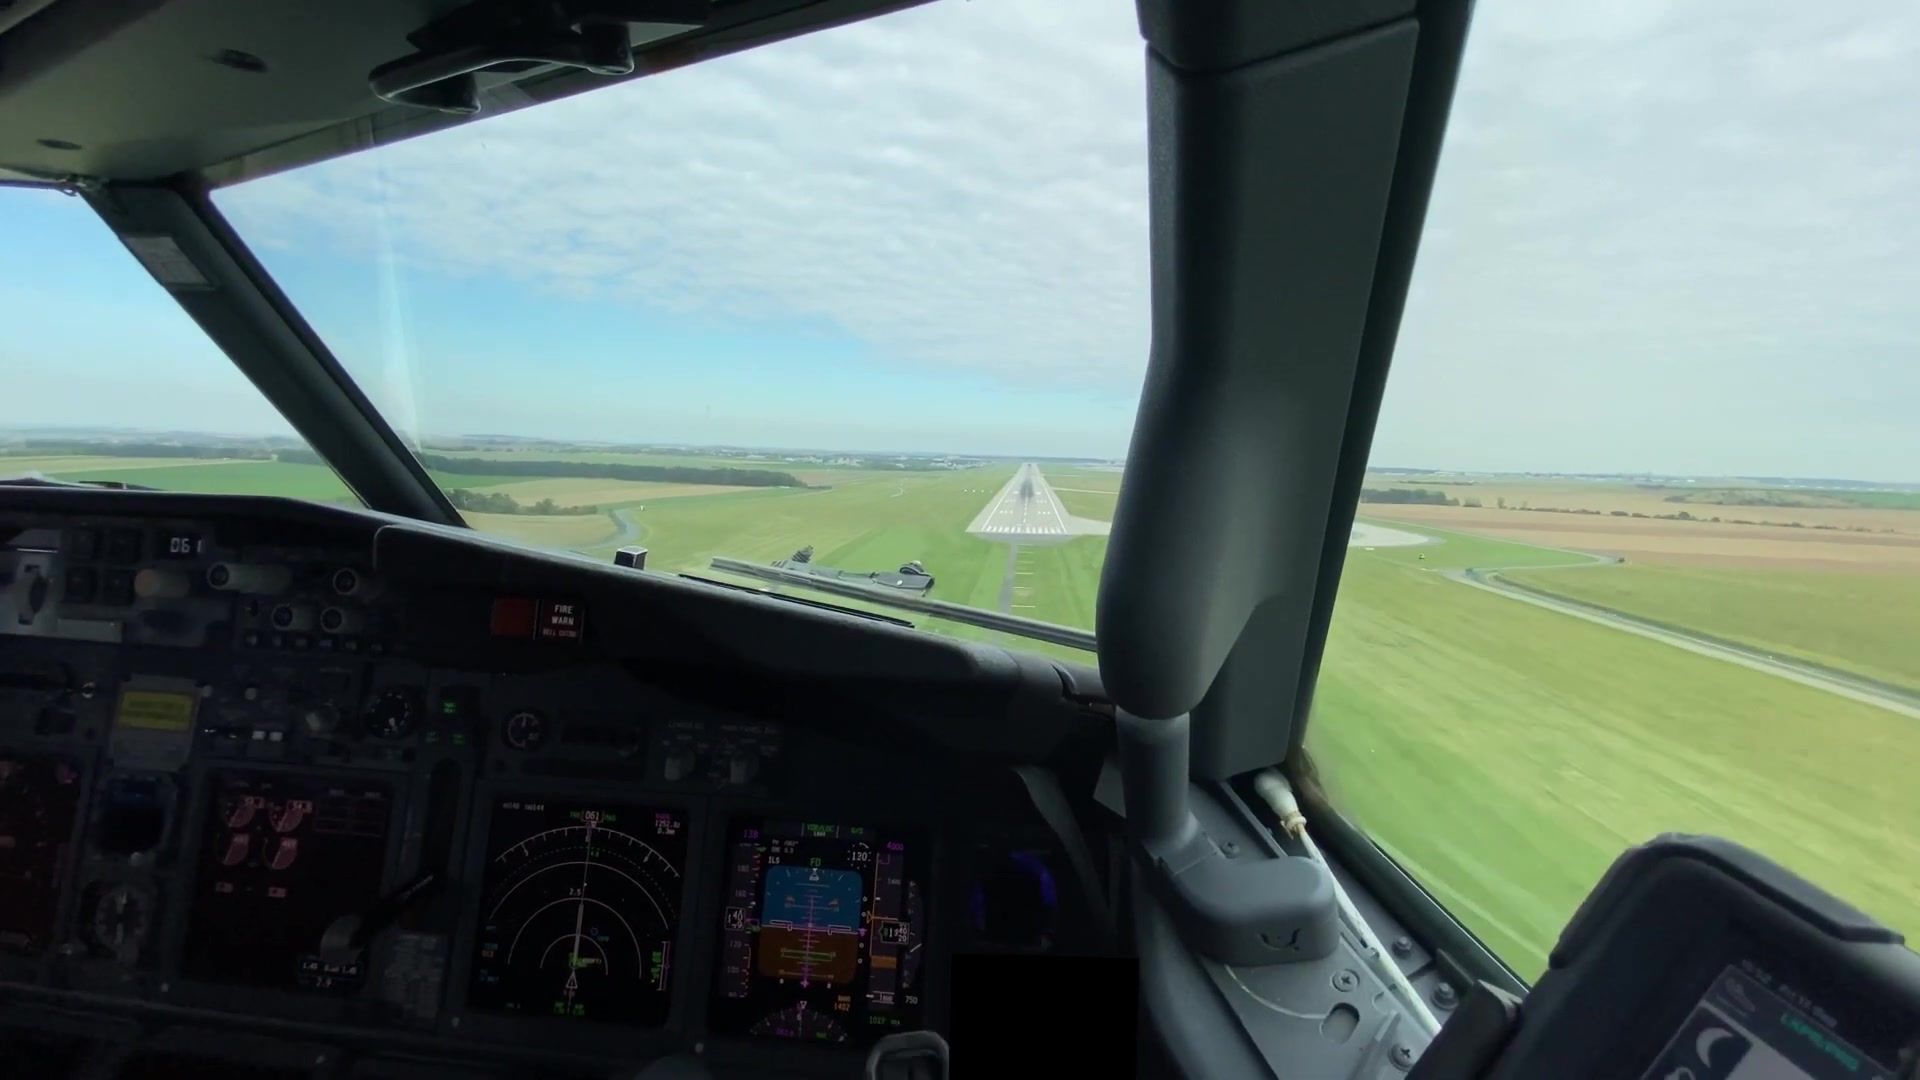entrance: (986, 525, 1064, 535)
runway: (963, 460, 1073, 537)
